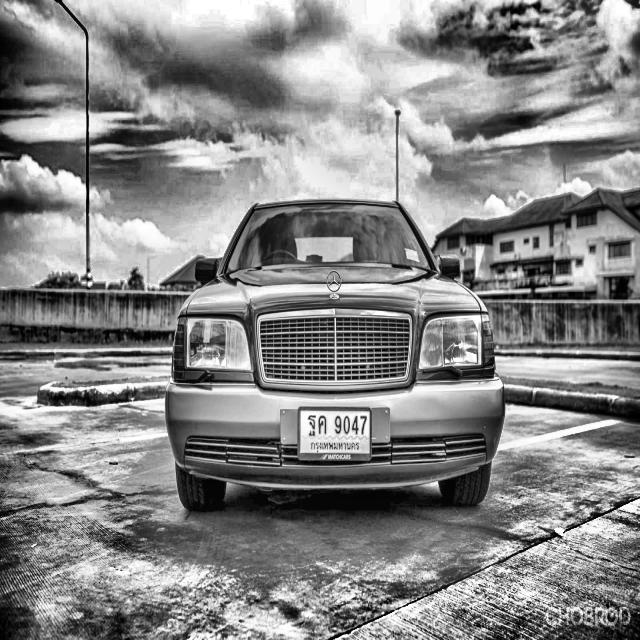license-plate: (296, 398, 376, 467)
